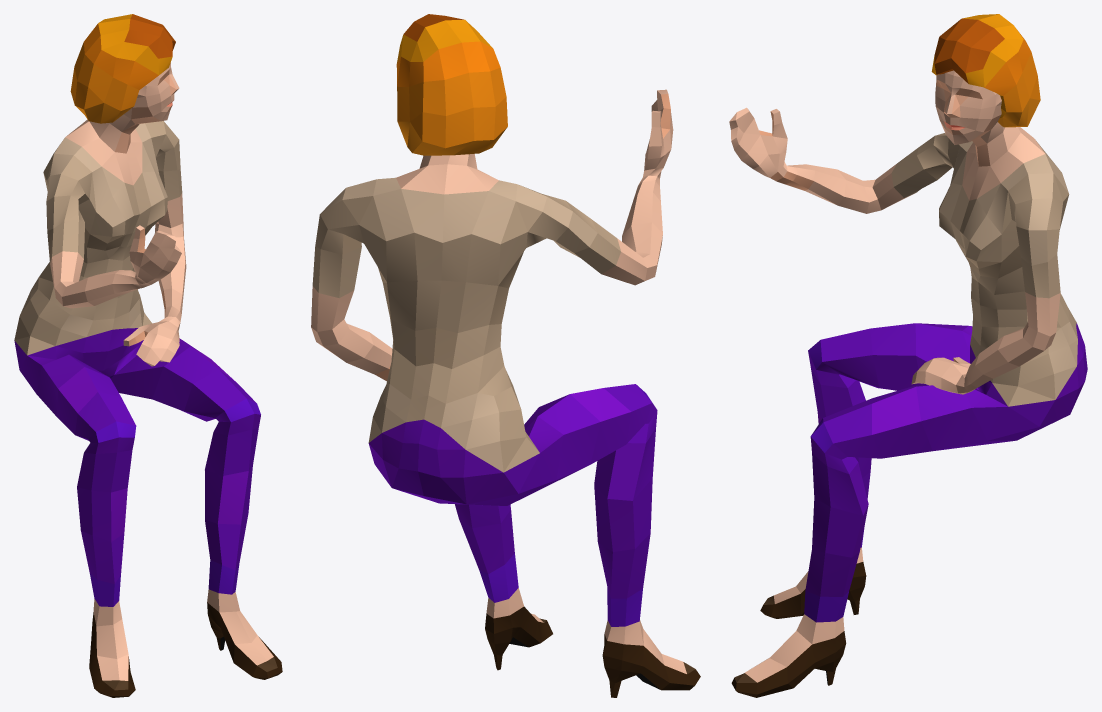
The model's file is npctest2.fbx.
The picture shows the model from 3 angles, left to right: view 1: azimuth 30°, elevation 25°; view 2: azimuth 150°, elevation 25°; view 3: azimuth 270°, elevation 25°; orthographic projection. The views are drawn at different scales.
Visible parts, largest first — view 1: lpFemale_casual_G_sitting_talking.001; view 2: lpFemale_casual_G_sitting_talking.001; view 3: lpFemale_casual_G_sitting_talking.001.
Part boxes in pixels (x1,y1,x2,y2): lpFemale_casual_G_sitting_talking.001: (14,14,282,697); lpFemale_casual_G_sitting_talking.001: (311,14,700,697); lpFemale_casual_G_sitting_talking.001: (729,14,1087,697).
Size of the model in its own units: 60.72 by 170 by 84.51.
Materials: 1 (1 with a texture image).
